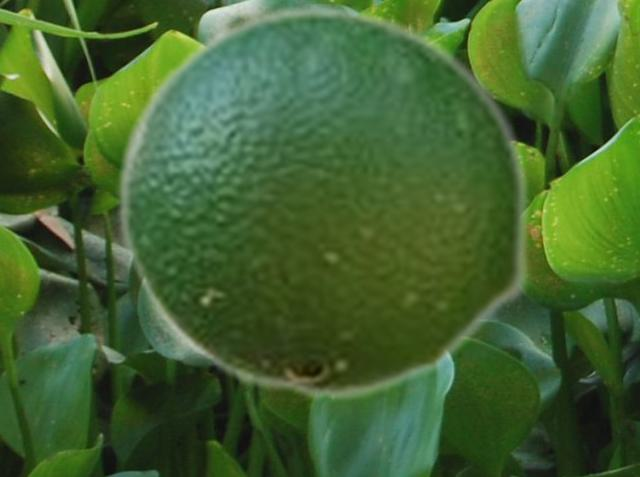dalandan: (115, 4, 531, 402)
